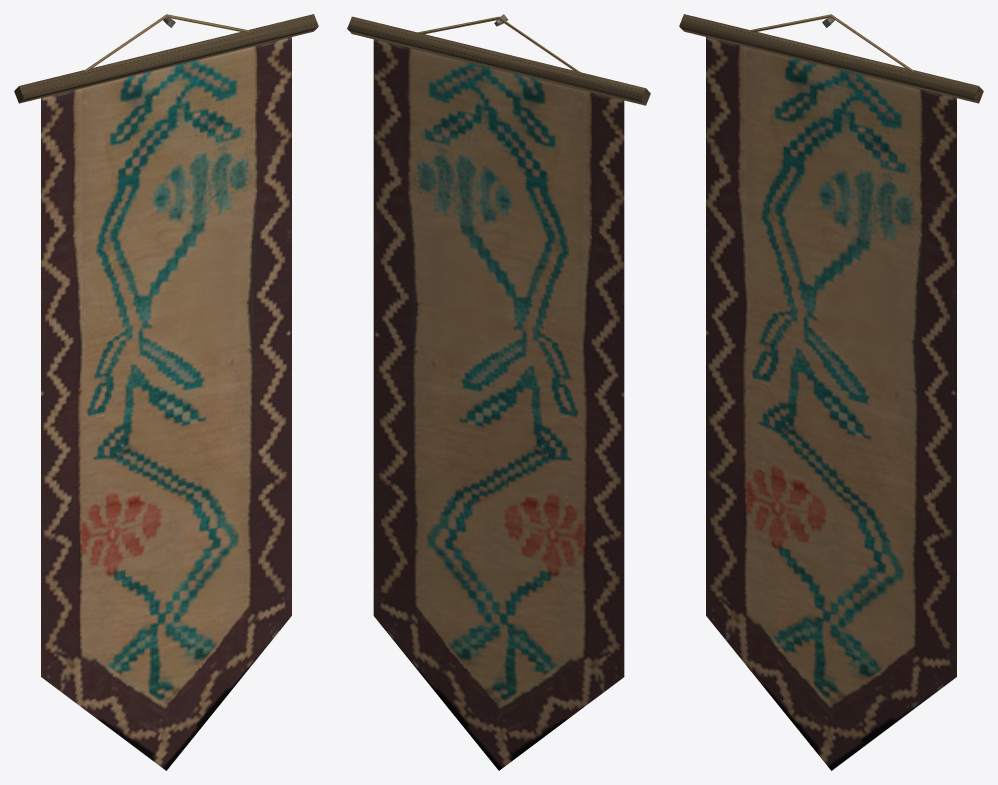
File: tapestry02.glb
3 renders of one model, left to right at view 1: azimuth 30°, elevation 25°; view 2: azimuth 150°, elevation 25°; view 3: azimuth 330°, elevation 25°, orthographic.
Visible parts, largest first — view 1: tapestry02; view 2: tapestry02; view 3: tapestry02.
Part boxes in pixels (bbox=[...]): tapestry02: bbox=[14, 14, 318, 770]; tapestry02: bbox=[347, 14, 650, 770]; tapestry02: bbox=[679, 14, 983, 770].
Bounding box in the file's own units: 0.7099 × 1.74 × 0.0409.
Materials: 4 (4 with a texture image).
